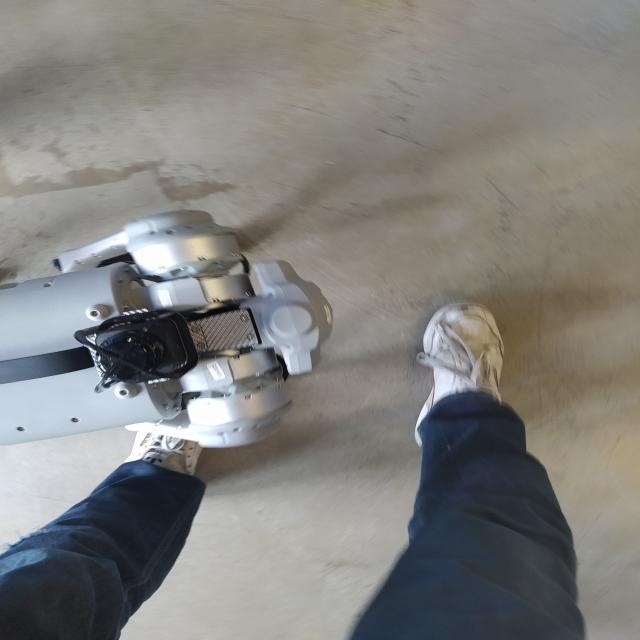unitree-go1-robot: (5, 206, 355, 474)
